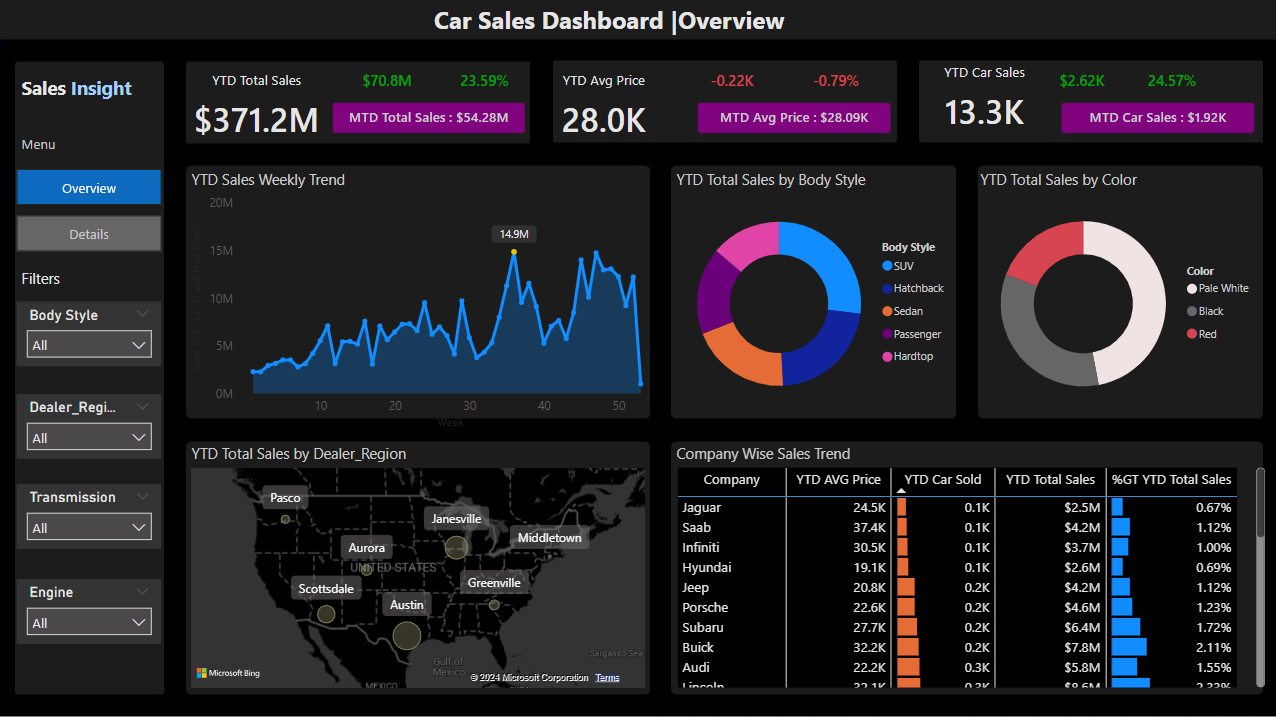

What the dashboard file says about the page in this screenshot:
{"tool":"powerbi","page":{"name":"Overview","canvas":[1280,720],"ordinal":0},"visuals":[{"type":"card","title":"YTD Total Sales","fields":{"Values":["car_data.YTD Total Sales"]},"box":[181.5,70.8,153.1,80],"z":0},{"type":"card","fields":{"Values":["car_data.Sales Difference"]},"box":[357.5,63.8,61.2,40],"z":1000},{"type":"card","fields":{"Values":["car_data.YoY Sales Growth (%)"]},"box":[455,63.8,61.2,40],"z":2000},{"type":"card","fields":{"Values":["car_data.MTD KPI"]},"box":[333.8,103.8,192,30],"z":3000},{"type":"card","title":"YTD Avg Price","fields":{"Values":["car_data.YTD AVG Price"]},"box":[529.2,70.8,152.3,80],"z":4000},{"type":"card","fields":{"Values":["car_data.Diff Avg Price"]},"box":[698.8,63.8,68.8,40],"z":5000},{"type":"card","fields":{"Values":["car_data.YoY Avg Price Growth"]},"box":[795,63.8,83.8,40],"z":6000},{"type":"card","fields":{"Values":["car_data.MTD Avg Price KPI"]},"box":[698.8,103.8,192.5,30],"z":7000},{"type":"card","title":"YTD Car Sales","fields":{"Values":["car_data.YTD Car Sold"]},"box":[908.8,63.8,153.8,80],"z":8000},{"type":"card","fields":{"Values":["car_data.Diff Car Sold"]},"box":[1052.5,63.8,61.2,40],"z":9000},{"type":"card","fields":{"Values":["car_data.YoY Car Sales Growth"]},"box":[1131.2,63.8,83.8,40],"z":10000},{"type":"card","fields":{"Values":["car_data.MTD Car Sales KPI"]},"box":[1062.5,103.8,192.5,30],"z":11000},{"type":"areaChart","title":"YTD Sales Weekly Trend","fields":{"Category":["Calender Table.Week"],"Y":["Sum(car_data.Price ($))","car_data.Max Point"]},"box":[187.7,170,476.9,264.6],"z":12000},{"type":"donutChart","title":"YTD Total Sales by Body Style","fields":{"Y":["car_data.YTD Total Sales"],"Category":["car_data.Body Style"]},"box":[672.5,170,286.2,250],"z":13000},{"type":"donutChart","title":"YTD Total Sales by Color","fields":{"Y":["car_data.YTD Total Sales"],"Category":["car_data.Color"]},"box":[976.2,170,287.5,250],"z":14000},{"type":"map","fields":{"Category":["car_data.Dealer_Region"],"Size":["car_data.YTD Total Sales"]},"box":[187.5,443.8,462.5,250],"z":15000},{"type":"tableEx","title":"Company Wise Sales Trend","fields":{"Values":["car_data.Company","car_data.YTD AVG Price","car_data.YTD Car Sold","car_data.YTD Total Sales1","car_data.YTD Total Sales"]},"box":[672.5,443.8,598.8,250],"z":16000},{"type":"textbox","box":[430,0,372.5,42.5],"z":17000},{"type":"slicer","fields":{"Values":["car_data.Body Style"]},"box":[17.5,302.5,145,65],"z":18000},{"type":"slicer","fields":{"Values":["car_data.Dealer_Region"]},"box":[17.5,395,145,65],"z":19000},{"type":"slicer","fields":{"Values":["car_data.Transmission"]},"box":[17.5,485,145,65],"z":20000},{"type":"slicer","fields":{"Values":["car_data.Engine"]},"box":[17.5,580,145,65],"z":21000},{"type":"textbox","box":[17.5,71.2,150,41.2],"z":22000},{"type":"textbox","box":[17.5,131.2,150,30],"z":23000},{"type":"pageNavigator","box":[17.5,170,145,82.5],"z":24000},{"type":"textbox","box":[17.5,263.8,53.8,31.2],"z":25000}]}

Visuals, with their boxes on the page's 1280x720 design canvas (x1, y1, x2, y2). These are canvas units, not pixel positions in the 1276x717 screenshot, which may show the page scaled, cropped or inside an application window:
"YTD Total Sales" card: <region>182, 71, 335, 151</region>
card - car_data.Sales Difference: <region>358, 64, 419, 104</region>
card - car_data.YoY Sales Growth (%): <region>455, 64, 516, 104</region>
card - car_data.MTD KPI: <region>334, 104, 526, 134</region>
"YTD Avg Price" card: <region>529, 71, 682, 151</region>
card - car_data.Diff Avg Price: <region>699, 64, 768, 104</region>
card - car_data.YoY Avg Price Growth: <region>795, 64, 879, 104</region>
card - car_data.MTD Avg Price KPI: <region>699, 104, 891, 134</region>
"YTD Car Sales" card: <region>909, 64, 1063, 144</region>
card - car_data.Diff Car Sold: <region>1052, 64, 1114, 104</region>
card - car_data.YoY Car Sales Growth: <region>1131, 64, 1215, 104</region>
card - car_data.MTD Car Sales KPI: <region>1062, 104, 1255, 134</region>
"YTD Sales Weekly Trend" areaChart: <region>188, 170, 665, 435</region>
"YTD Total Sales by Body Style" donutChart: <region>672, 170, 959, 420</region>
"YTD Total Sales by Color" donutChart: <region>976, 170, 1264, 420</region>
map - car_data.Dealer_Region x car_data.YTD Total Sales: <region>188, 444, 650, 694</region>
"Company Wise Sales Trend" tableEx: <region>672, 444, 1271, 694</region>
textbox: <region>430, 0, 802, 42</region>
slicer - car_data.Body Style: <region>18, 302, 162, 368</region>
slicer - car_data.Dealer_Region: <region>18, 395, 162, 460</region>
slicer - car_data.Transmission: <region>18, 485, 162, 550</region>
slicer - car_data.Engine: <region>18, 580, 162, 645</region>
textbox: <region>18, 71, 168, 112</region>
textbox: <region>18, 131, 168, 161</region>
pageNavigator: <region>18, 170, 162, 252</region>
textbox: <region>18, 264, 71, 295</region>
